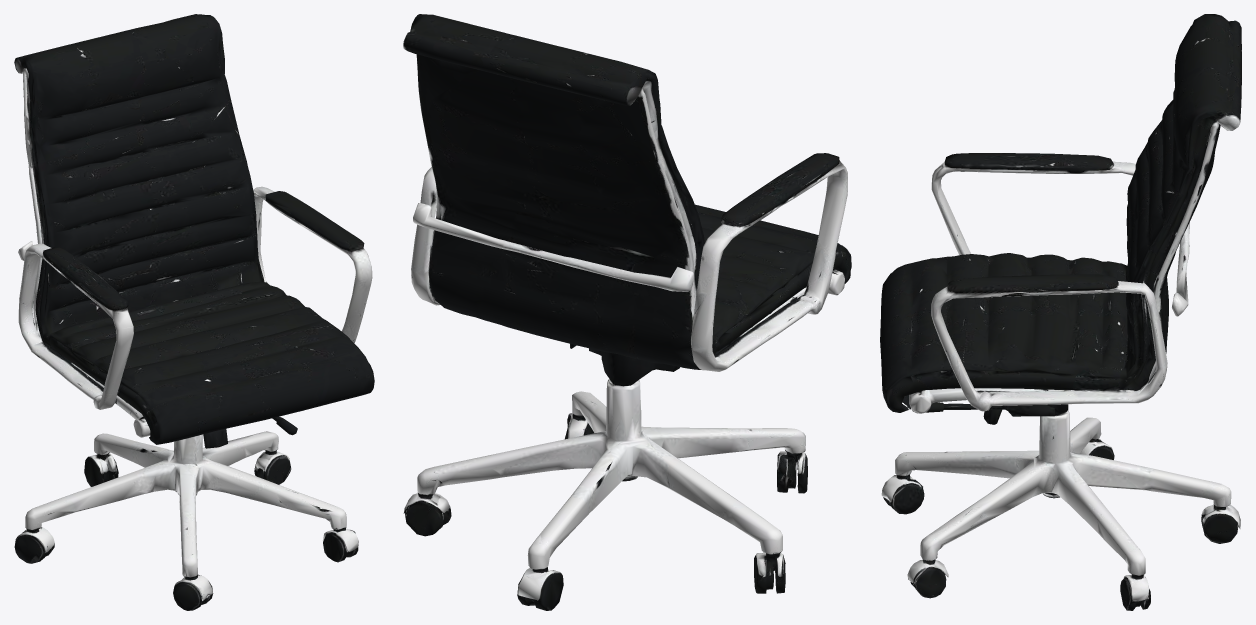
Rendered from chair.glb.
3 views of the same model, side by side, from view 1: azimuth 30°, elevation 25°; view 2: azimuth 150°, elevation 25°; view 3: azimuth 270°, elevation 25° (orthographic). The views are drawn at different scales.
Bounding box in the file's own units: 1.29 × 1.9 × 1.28.
Materials: 1 (1 with a texture image).
